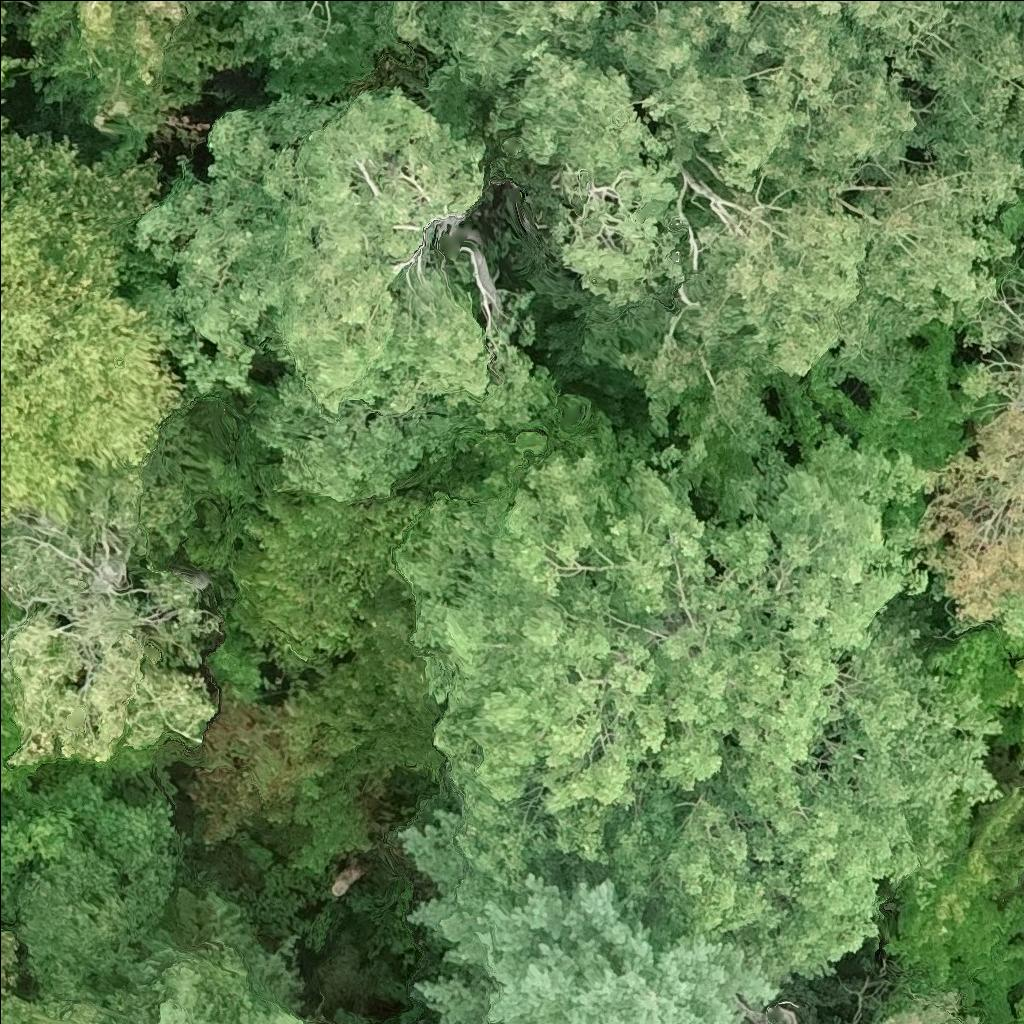crown: (397, 421, 1002, 988), (481, 40, 1023, 441), (139, 86, 551, 502), (401, 810, 778, 1023), (0, 133, 191, 532), (182, 609, 453, 870), (0, 467, 227, 771), (610, 0, 959, 192), (228, 487, 426, 675), (875, 784, 1023, 1023), (395, 375, 635, 504), (922, 357, 1023, 635), (388, 0, 644, 87), (27, 0, 211, 102), (929, 619, 1023, 763), (238, 0, 348, 67), (153, 966, 223, 1023), (0, 997, 113, 1023), (879, 995, 961, 1023), (236, 1008, 306, 1023), (0, 733, 18, 787), (0, 928, 16, 988), (0, 588, 23, 627), (0, 58, 13, 88), (1012, 1001, 1023, 1023), (0, 115, 11, 137), (0, 5, 5, 23), (0, 37, 2, 44)
